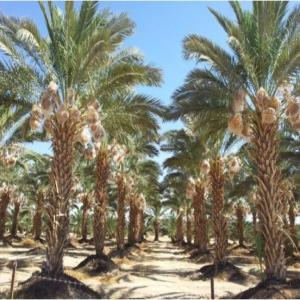palm tree: (0, 0, 165, 277), (168, 0, 299, 282)
